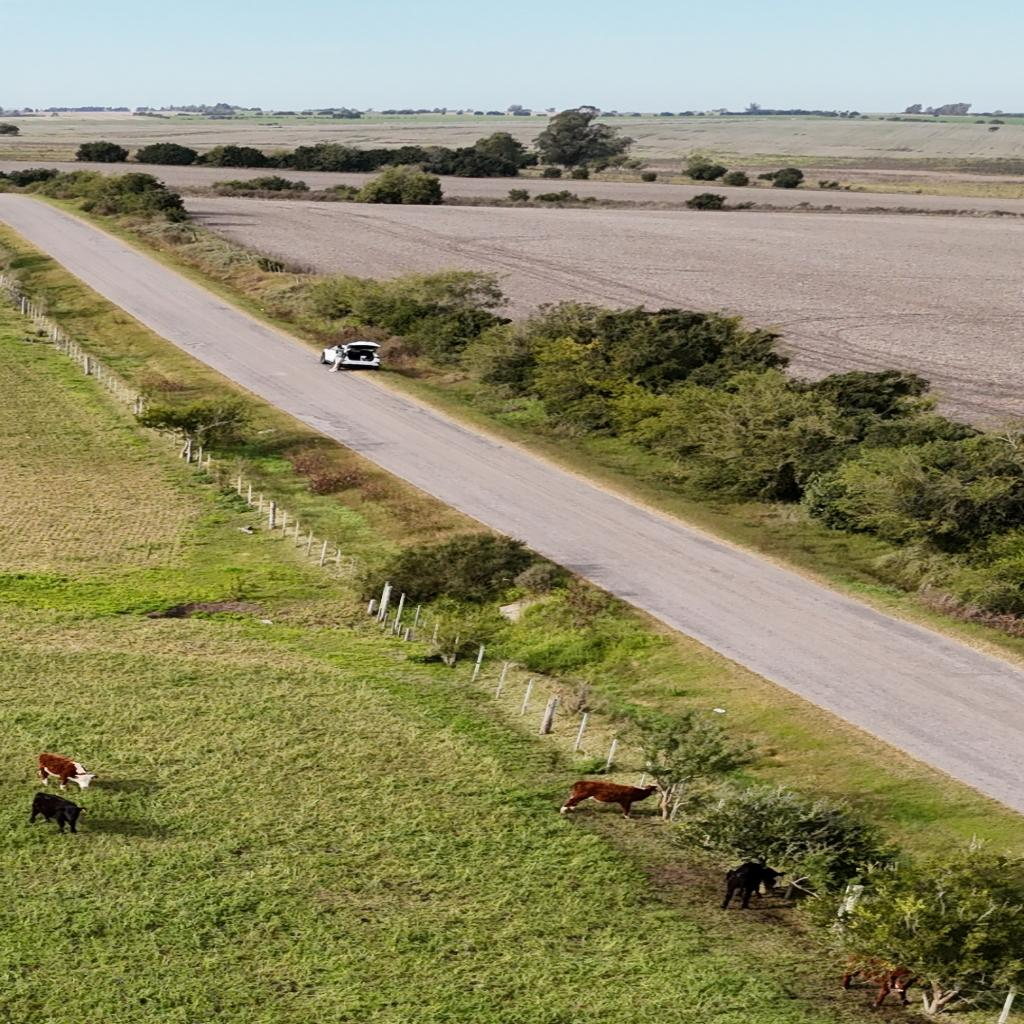cow: (838, 956, 920, 1008), (559, 780, 661, 819), (720, 861, 782, 910), (28, 791, 86, 835), (38, 753, 100, 792)
